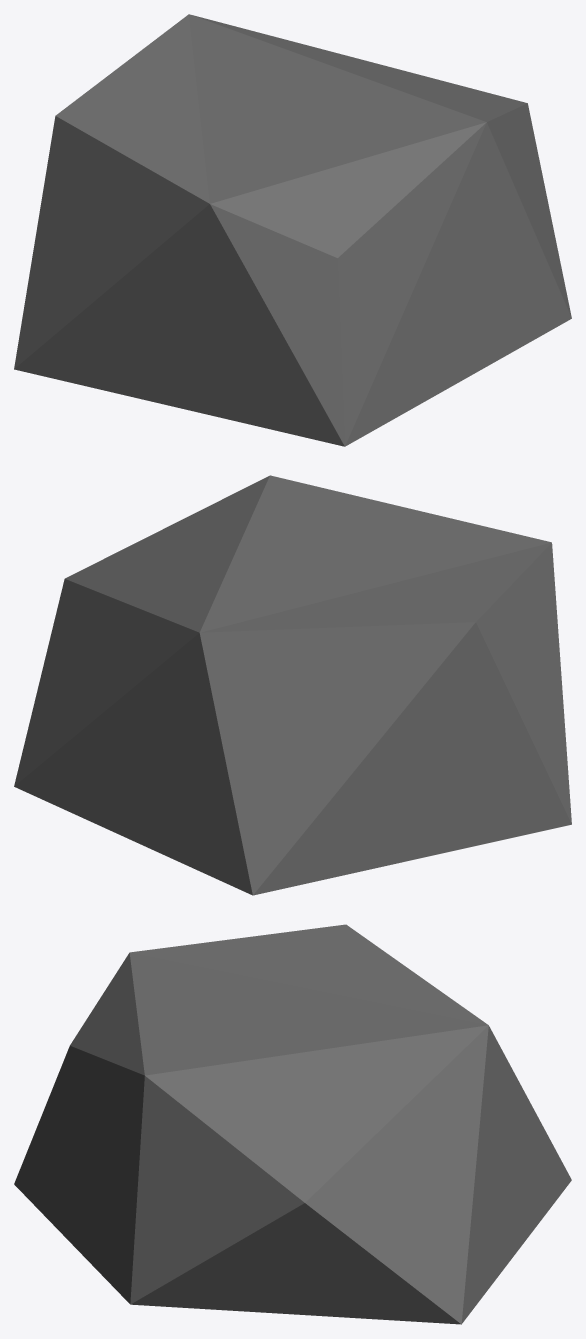
The model's file is StoneRock.fbx.
3 renders of one model, top to bottom at view 1: azimuth 30°, elevation 25°; view 2: azimuth 150°, elevation 25°; view 3: azimuth 270°, elevation 25°, orthographic. The views are drawn at different scales.
Parts seen in each view (by area): view 1: Rock_02; view 2: Rock_02; view 3: Rock_02.
Part boxes in pixels (x1,y1,x2,y2): Rock_02: (14, 14, 571, 446); Rock_02: (14, 475, 571, 895); Rock_02: (14, 924, 571, 1324).
Bounding box in the file's own units: 151 × 73.43 × 151.
